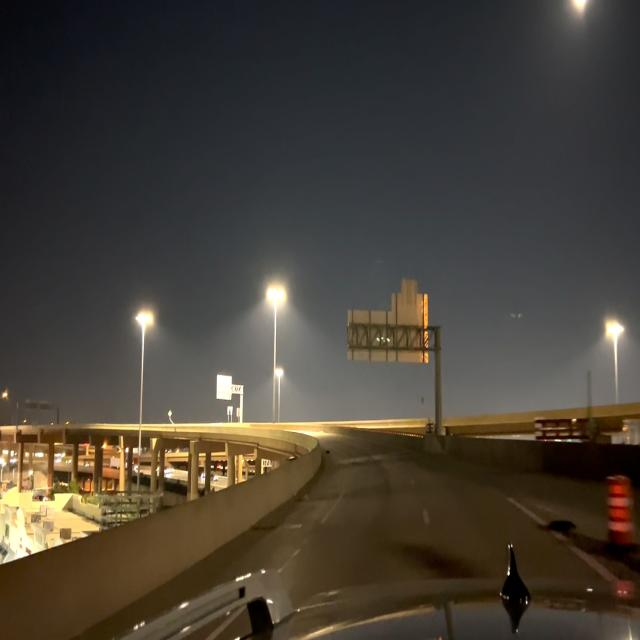back-of-sign: (345, 311, 430, 365), (394, 295, 428, 309), (404, 277, 416, 295)
